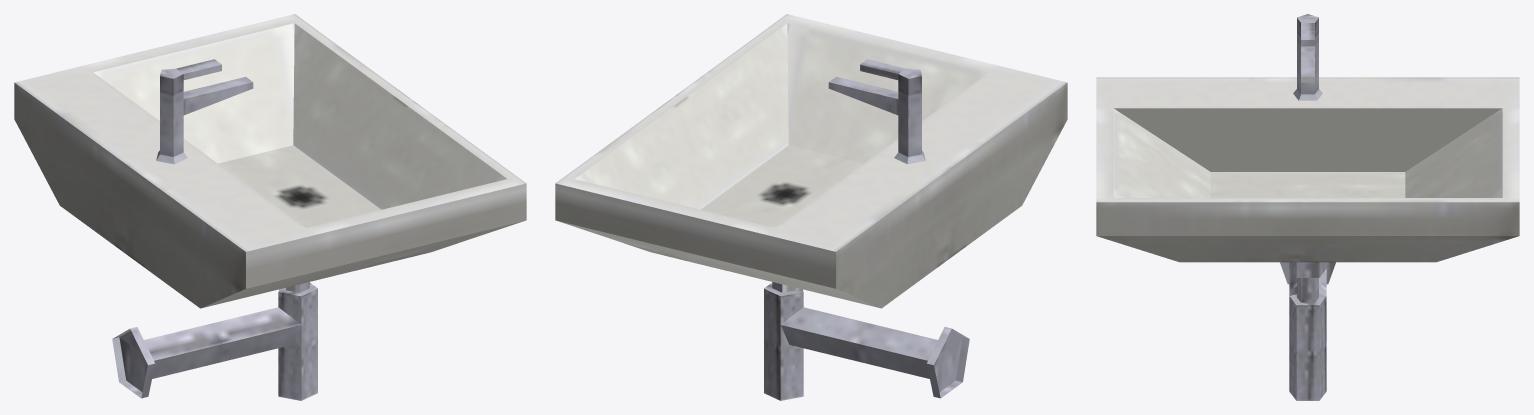
Rendered from Sink01.obj.
3 renders of one model, left to right at view 1: azimuth 30°, elevation 25°; view 2: azimuth 150°, elevation 25°; view 3: azimuth 270°, elevation 25°, orthographic. The views are drawn at different scales.
Visible parts, largest first — view 1: Sink01.Base, Sink01.Faucet; view 2: Sink01.Base, Sink01.Faucet; view 3: Sink01.Base, Sink01.Faucet.
Boxes of the visible parts, x1,y1,x2,y2 form: Sink01.Base: (14, 14, 526, 400); Sink01.Faucet: (160, 59, 221, 94); Sink01.Base: (555, 14, 1067, 400); Sink01.Faucet: (860, 59, 921, 94); Sink01.Base: (1096, 32, 1519, 400); Sink01.Faucet: (1297, 14, 1318, 45).
Bounding box in the file's own units: 0.5838 × 0.6943 × 0.8338.
